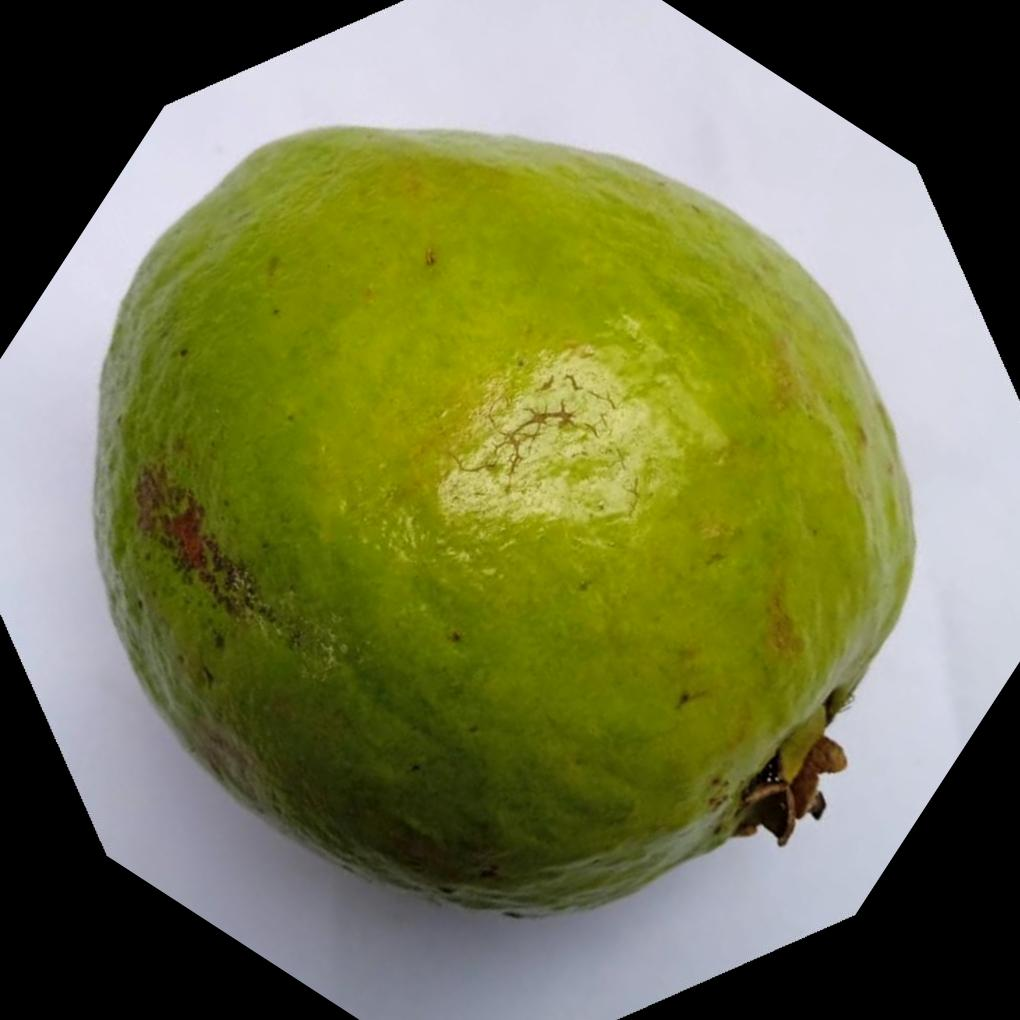FreshGuava: (86, 125, 917, 924)
